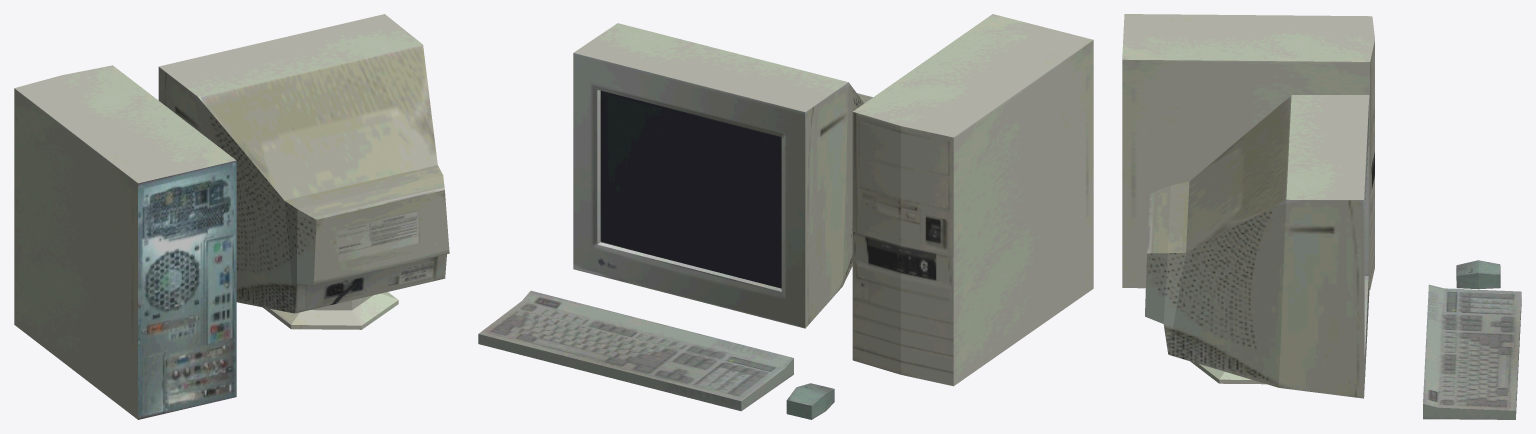
File: computer_04.fbx
3 renders of one model, left to right at view 1: azimuth 30°, elevation 25°; view 2: azimuth 150°, elevation 25°; view 3: azimuth 270°, elevation 25°, orthographic. The views are drawn at different scales.
Parts seen in each view (by area): view 1: computer_tower3, computer_monitor3; view 2: computer_tower3, computer_monitor3, computer_keyboard3, computer_mouse3; view 3: computer_monitor3, computer_tower3, computer_keyboard3, computer_mouse3.
Boxes of the visible parts, box(x1,y1,x2,y2) form: computer_tower3: box(14, 65, 236, 419); computer_monitor3: box(158, 14, 449, 329); computer_tower3: box(852, 14, 1093, 386); computer_monitor3: box(573, 23, 872, 328); computer_keyboard3: box(478, 290, 793, 411); computer_mouse3: box(786, 383, 834, 419); computer_monitor3: box(1145, 95, 1369, 398); computer_tower3: box(1122, 14, 1374, 290); computer_keyboard3: box(1423, 284, 1521, 419); computer_mouse3: box(1456, 260, 1500, 289).
Bounding box in the file's own units: 103 × 60.98 × 96.66.
